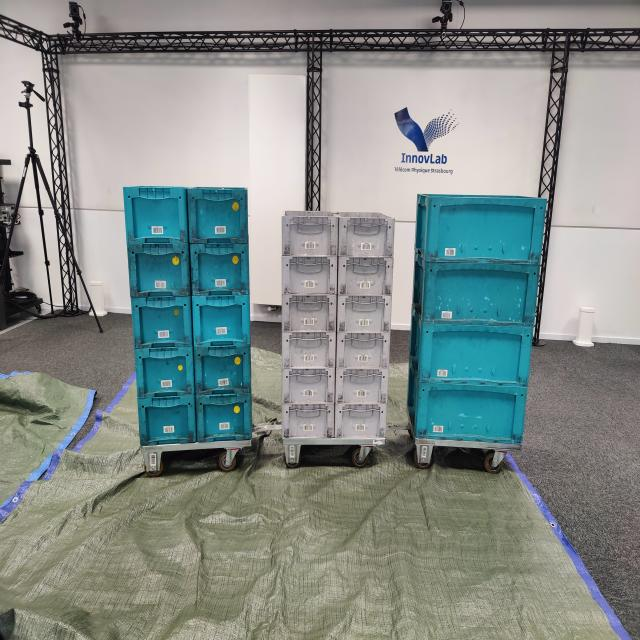Box8G: (338, 210, 396, 261), (282, 208, 339, 259), (336, 291, 393, 335), (336, 256, 395, 297), (279, 256, 336, 297), (334, 332, 392, 371), (280, 366, 336, 406), (334, 367, 389, 407), (280, 296, 336, 333), (334, 405, 388, 442), (281, 404, 337, 438), (282, 334, 336, 369)
BoxB4: (408, 311, 547, 386), (406, 257, 544, 330), (402, 368, 532, 445), (411, 192, 549, 264)
BoxB8: (122, 183, 189, 246), (123, 243, 193, 300), (186, 186, 248, 248), (191, 290, 252, 350), (193, 338, 255, 397), (192, 241, 251, 300), (137, 396, 198, 450), (134, 348, 193, 403), (130, 301, 191, 352), (195, 395, 257, 444)
